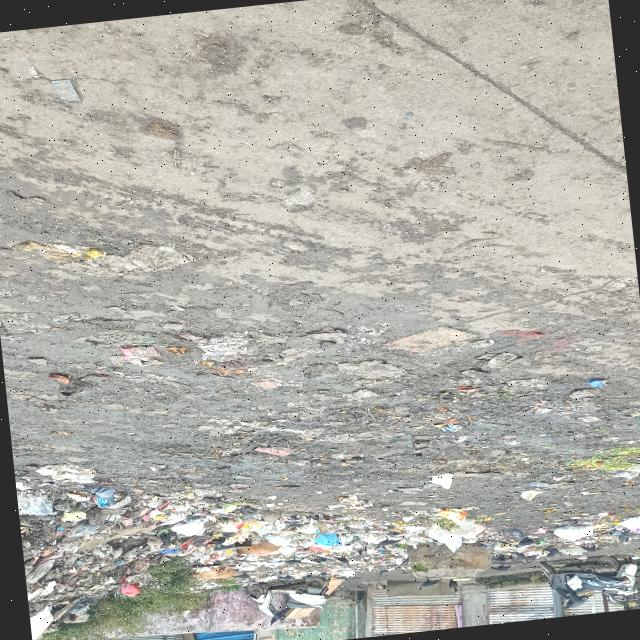garbage: (20, 454, 473, 608), (479, 501, 640, 568)
